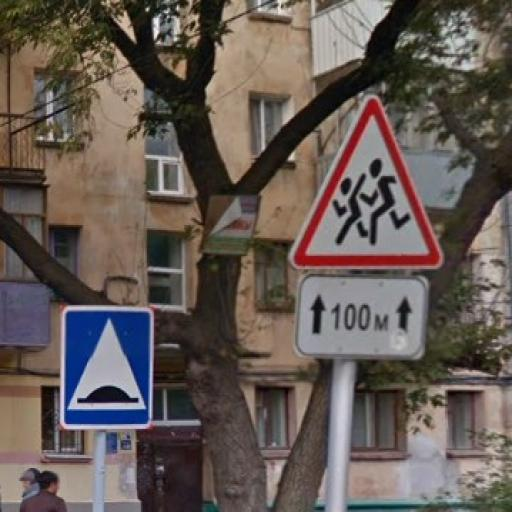traffic_sign: (288, 96, 446, 275), (62, 304, 155, 430)
